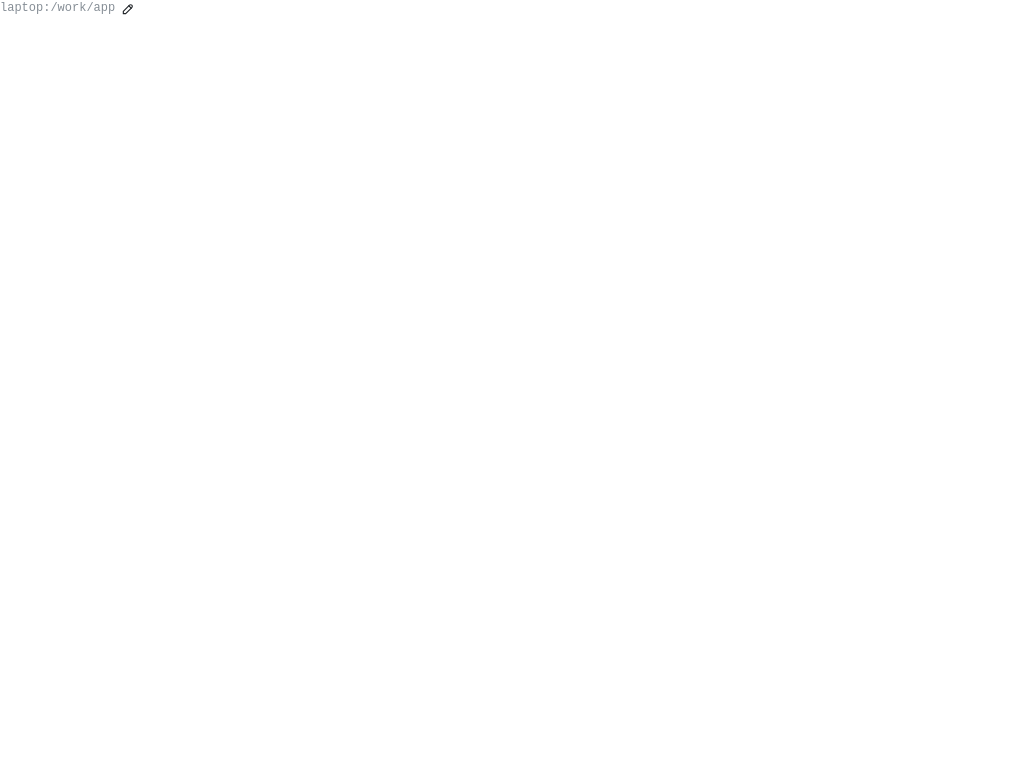
Test: WorkdirSetting › changes the directory without a confirmation when the task has no session
Later steps or results of the test are not shown.
Click the button named "Change the working directory".
click(128, 9)  # box [119, 0, 137, 18]
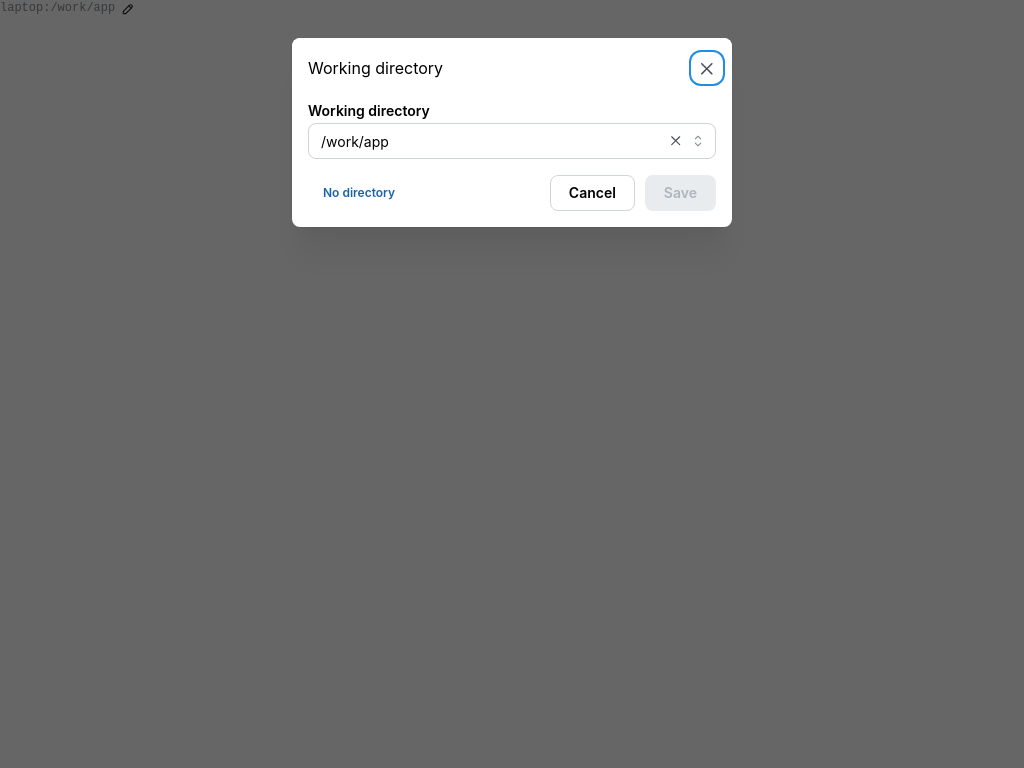
Expected: the button "Save" is disabled, [645, 175, 716, 211]
